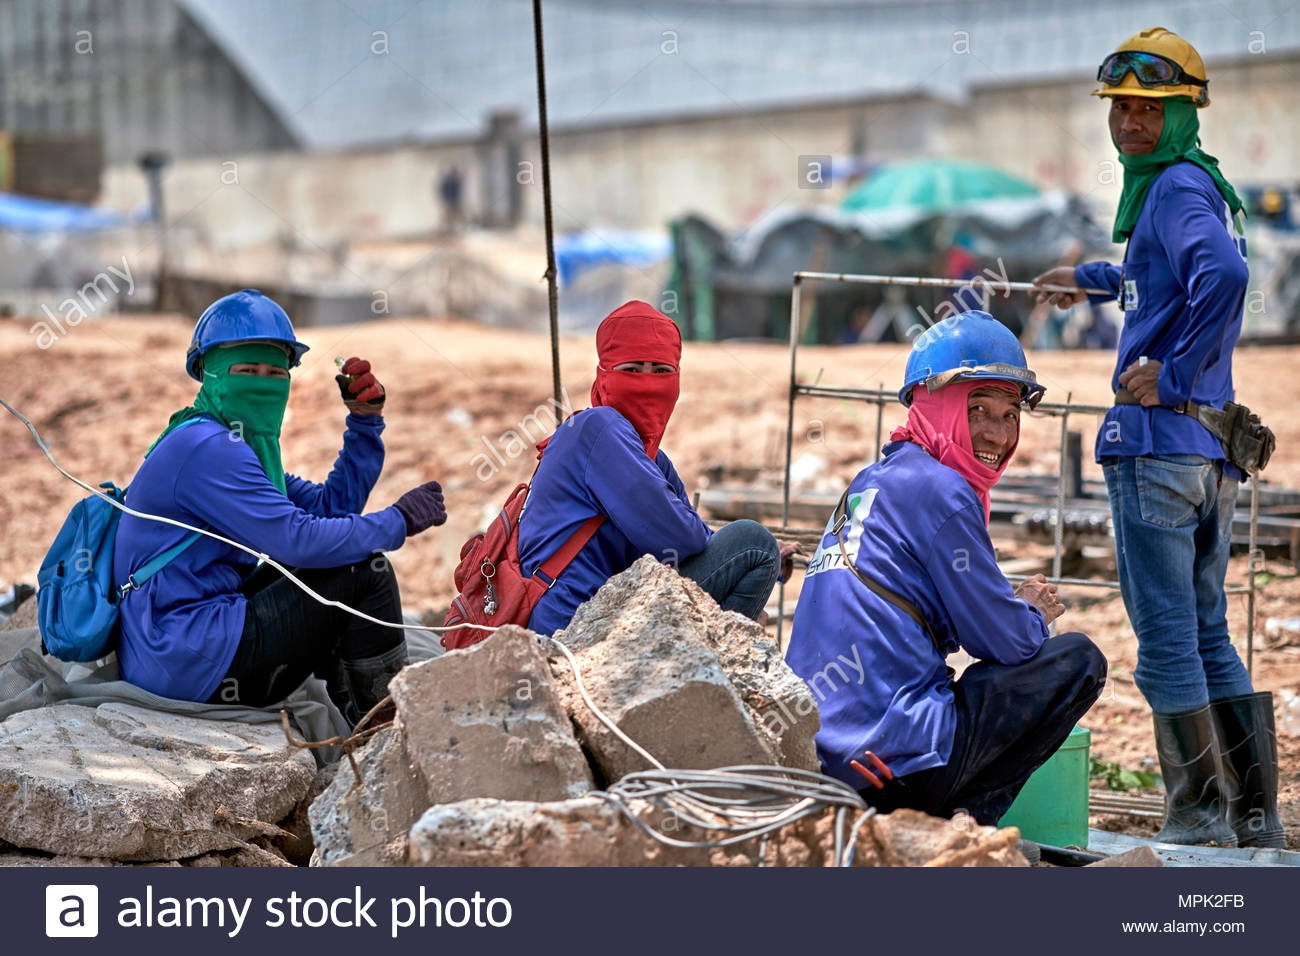blue: (895, 311, 1024, 474), (182, 283, 304, 433)
red: (590, 302, 681, 418)
yellow: (1097, 23, 1211, 160)
